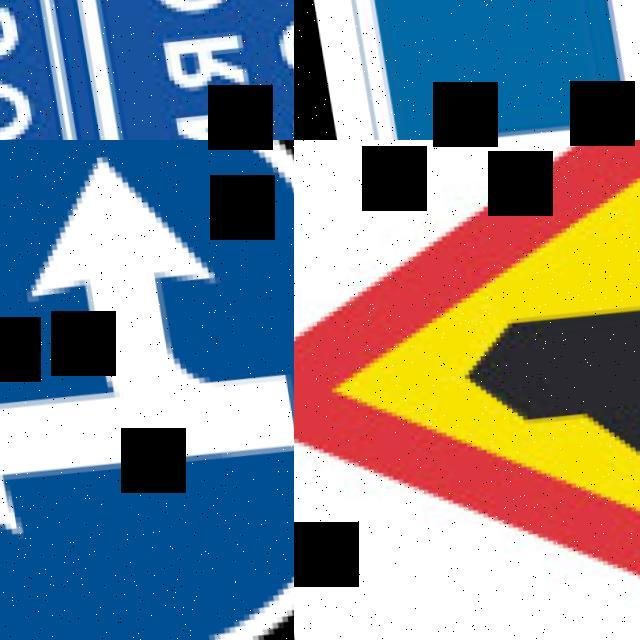166: (294, 140, 640, 640)
178: (294, 0, 640, 140)
2: (0, 0, 294, 140)
Turn left or straight ahead: (0, 140, 294, 640)
